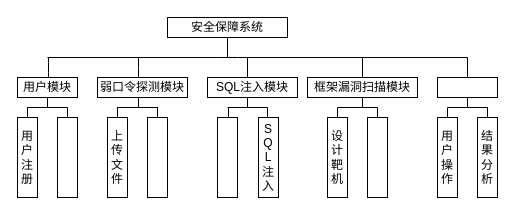
Image size: 515x215. Some labels were removed from this diagram. The centre of each missing label's shape, as x and y in pixels:
"搭建靶机" belongs at point 227,157.
"日志模块" belongs at point 467,87.
"漏洞爆破" belongs at point 377,157.
"用户登录" belongs at point 67,157.
"设置线程数" belongs at point 157,157.
